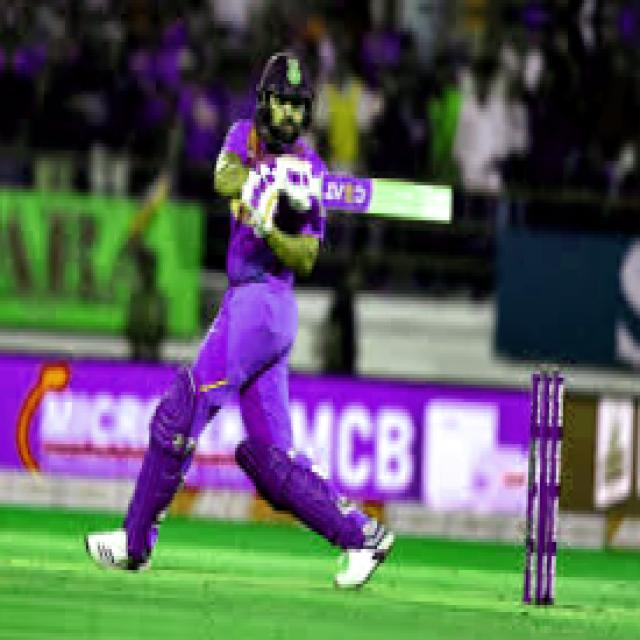toe: (438, 187, 456, 226)
